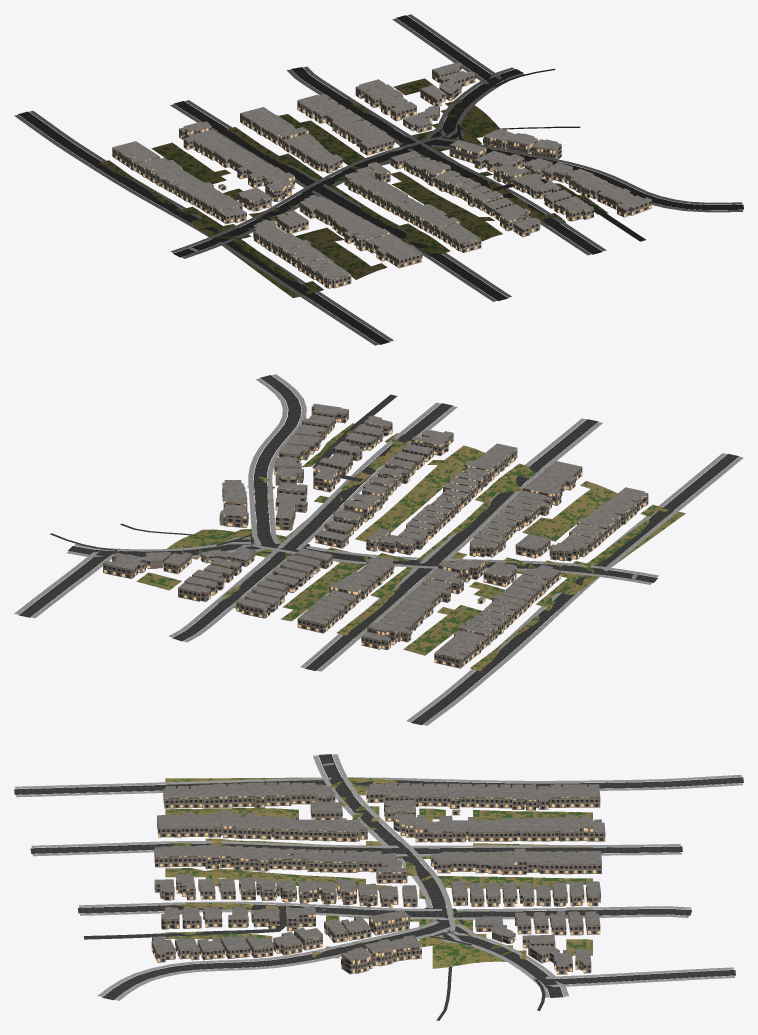
Rendered from tile_7_-13.gltf.
3 views of the same model, one above another, from view 1: azimuth 30°, elevation 25°; view 2: azimuth 150°, elevation 25°; view 3: azimuth 270°, elevation 25° (orthographic). The views are drawn at different scales.
Visible parts, largest first — view 1: Buildings_col, Roads, Terrain_col, Sidewalks; view 2: Buildings_col, Terrain_col, Roads, Sidewalks; view 3: Buildings_col, Roads, Sidewalks, Terrain_col.
Part boxes in pixels (bbox=[...]): Buildings_col: bbox=[112, 62, 651, 288]; Roads: bbox=[18, 15, 743, 344]; Terrain_col: bbox=[99, 78, 608, 297]; Sidewalks: bbox=[14, 14, 742, 345]; Buildings_col: bbox=[103, 403, 648, 668]; Terrain_col: bbox=[136, 423, 685, 671]; Roads: bbox=[18, 375, 739, 725]; Sidewalks: bbox=[14, 374, 743, 725]; Buildings_col: bbox=[151, 782, 605, 974]; Roads: bbox=[14, 754, 743, 1020]; Sidewalks: bbox=[15, 754, 742, 1000]; Terrain_col: bbox=[165, 777, 592, 968].
Size of the model in its own units: 363 by 28.74 by 437.
Materials: 6 (6 with a texture image).
